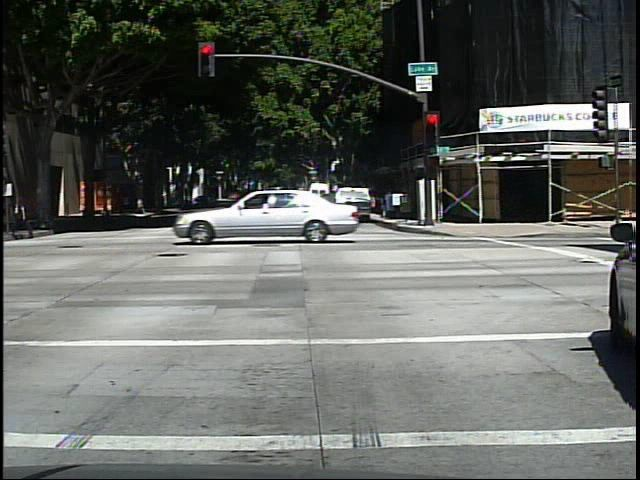person: (10, 189, 39, 242)
